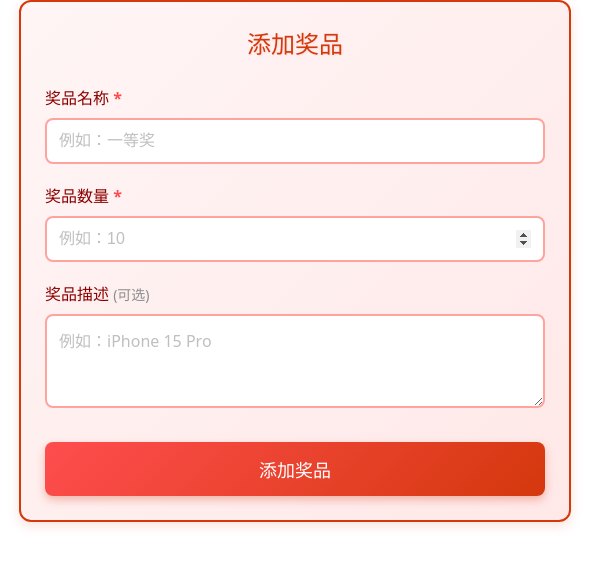
PrizeConfigForm › 输入验证 - 奖品名称 › 应该拒绝空的奖品名称
只填写数量，不填写名称
Type "10" into the number field labelled "奖品数量 *" at [295, 239], box [45, 216, 545, 262]
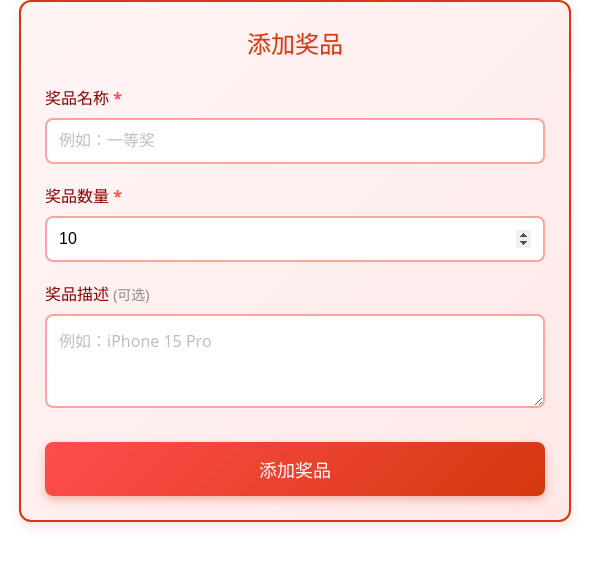
Click the button "添加奖品" at [295, 469], box [45, 442, 545, 496]
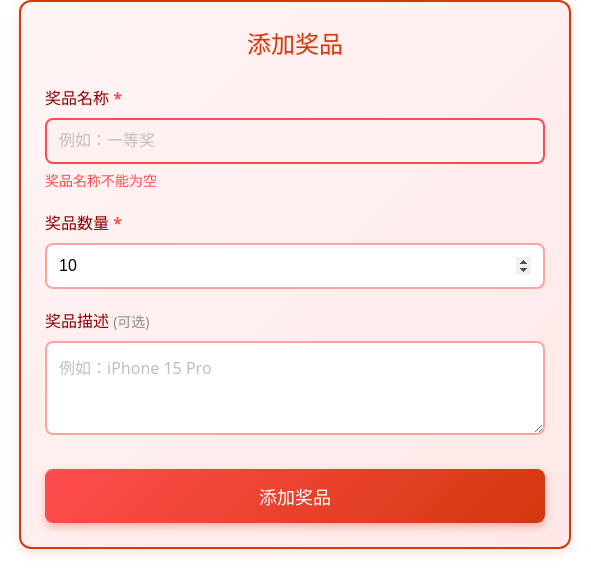
Expected: the text "奖品名称不能为空" is shown, [45, 171, 157, 190]
